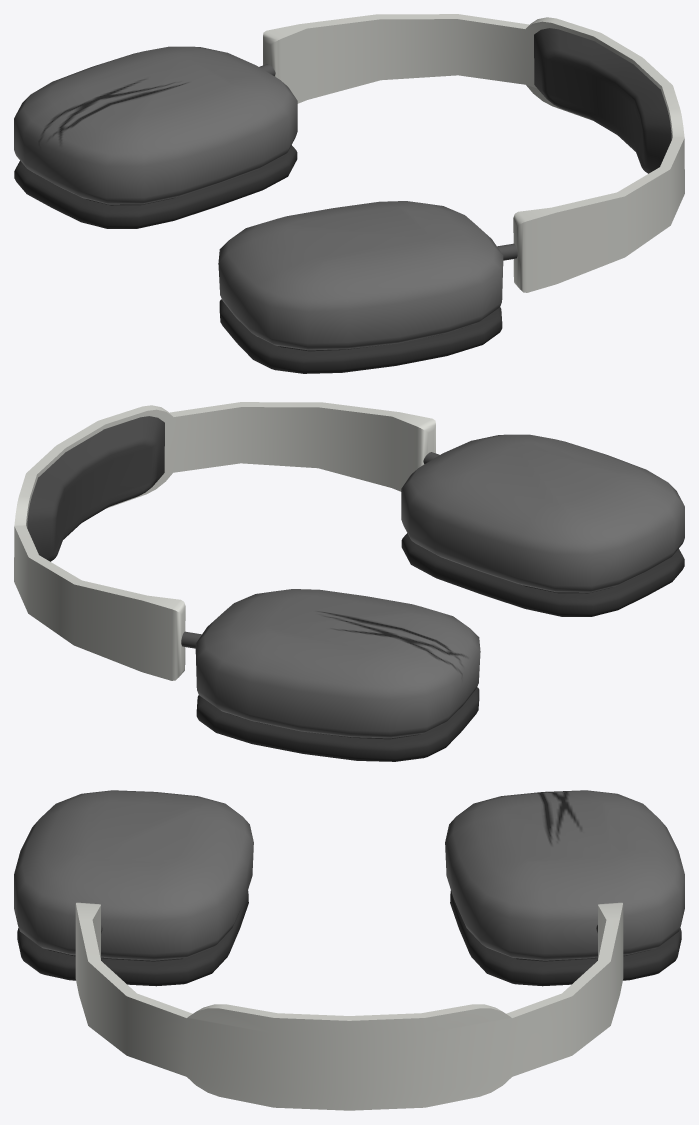
File: headphones.fbx
3 renders of one model, top to bottom at view 1: azimuth 30°, elevation 25°; view 2: azimuth 150°, elevation 25°; view 3: azimuth 270°, elevation 25°, orthographic. The views are drawn at different scales.
Visible parts, largest first — view 1: Cylinder.009, Cylinder.007, Cylinder.008, Cylinder.010, Cylinder.006, Cylinder.011; view 2: Cylinder.007, Cylinder.009, Cylinder.008, Cylinder.010, Cylinder.006, Cylinder.011; view 3: Cylinder.008, Cylinder.009, Cylinder.007, Cylinder.006, Cylinder.011.
Boxes of the visible parts, box(x1,y1,x2,y2) form: Cylinder.009: box(218, 201, 503, 350); Cylinder.007: box(14, 46, 297, 204); Cylinder.008: box(263, 14, 684, 292); Cylinder.010: box(534, 28, 671, 173); Cylinder.006: box(14, 145, 297, 228); Cylinder.011: box(219, 299, 502, 373); Cylinder.007: box(195, 589, 480, 738); Cylinder.009: box(401, 434, 684, 592); Cylinder.008: box(14, 402, 435, 680); Cylinder.010: box(27, 416, 164, 561); Cylinder.006: box(196, 687, 479, 761); Cylinder.011: box(401, 533, 684, 616); Cylinder.008: box(75, 902, 623, 1110); Cylinder.009: box(14, 790, 253, 960); Cylinder.007: box(445, 790, 684, 960); Cylinder.006: box(450, 891, 681, 986); Cylinder.011: box(17, 891, 248, 986).
Bounding box in the file's own units: 1.67 × 0.3203 × 1.82.
